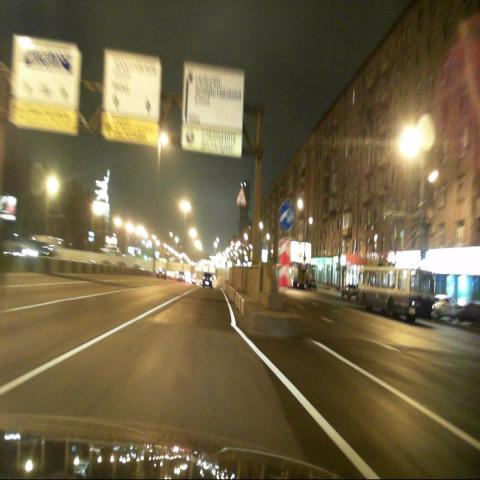1_15: (235, 185, 247, 207)
